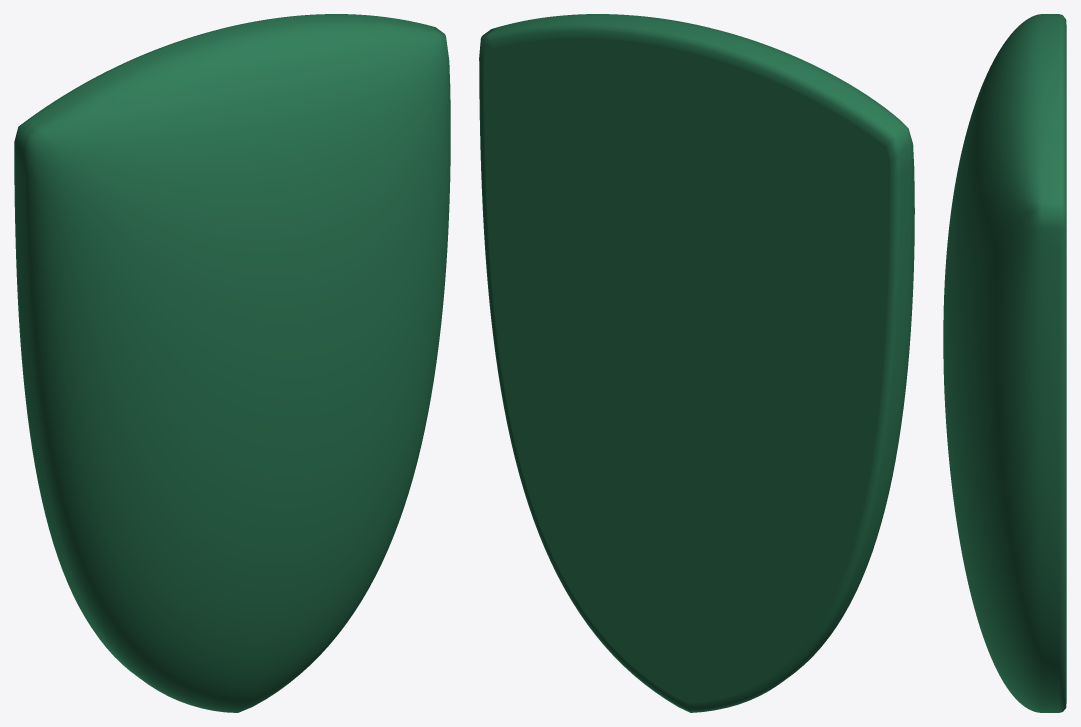
Rendered from shield.glb.
The picture shows the model from 3 angles, left to right: view 1: azimuth 30°, elevation 25°; view 2: azimuth 150°, elevation 25°; view 3: azimuth 270°, elevation 25°; orthographic projection. The views are drawn at different scales.
Parts seen in each view (by area): view 1: Shield Cabochon 23x15x4mm; view 2: Shield Cabochon 23x15x4mm; view 3: Shield Cabochon 23x15x4mm.
Part boxes in pixels (x1,y1,x2,y2): Shield Cabochon 23x15x4mm: (14,14,450,712); Shield Cabochon 23x15x4mm: (479,14,914,712); Shield Cabochon 23x15x4mm: (943,14,1066,712).
Bounding box in the file's own units: 0.015 × 0.023 × 0.00398.
